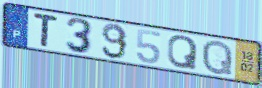3: (64, 17, 95, 55)
5: (135, 27, 162, 65)
9: (101, 22, 129, 61)
Q: (166, 34, 200, 72), (200, 39, 234, 76)
T: (32, 12, 60, 50)
